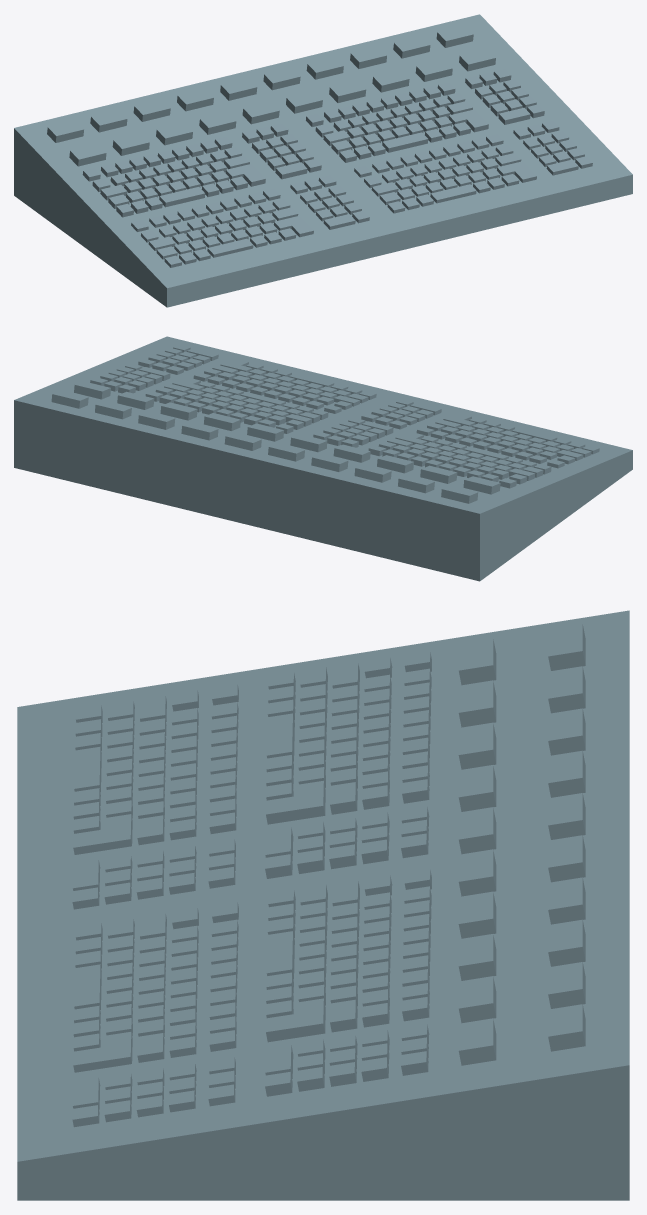
The model's file is Mixing_Table.fbx.
3 renders of one model, top to bottom at view 1: azimuth 30°, elevation 25°; view 2: azimuth 150°, elevation 25°; view 3: azimuth 270°, elevation 25°, orthographic. The views are drawn at different scales.
Visible parts, largest first — view 1: Mixing_Table; view 2: Mixing_Table; view 3: Mixing_Table.
Boxes of the visible parts, left/top/right/bottom form: Mixing_Table: left=14, top=14, right=632, bottom=307; Mixing_Table: left=14, top=336, right=632, bottom=581; Mixing_Table: left=17, top=610, right=629, bottom=1200.
Size of the model in its own units: 107 by 15.71 by 60.79.
